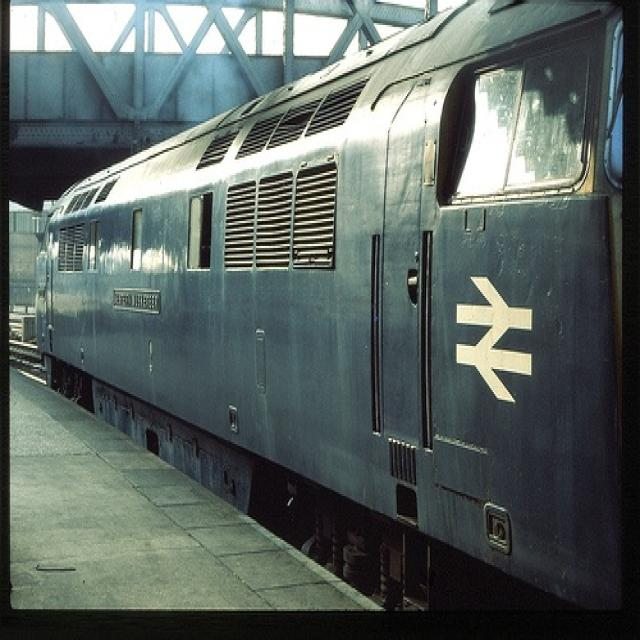train: (36, 0, 623, 611)
